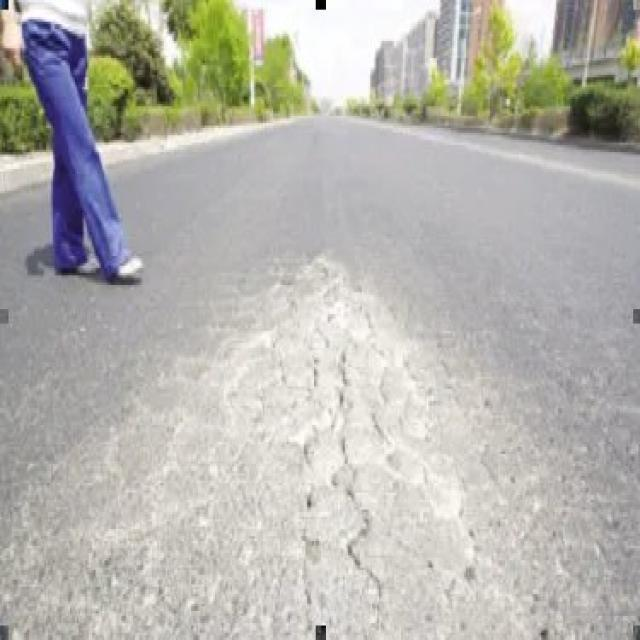pothole: (278, 259, 423, 638)
